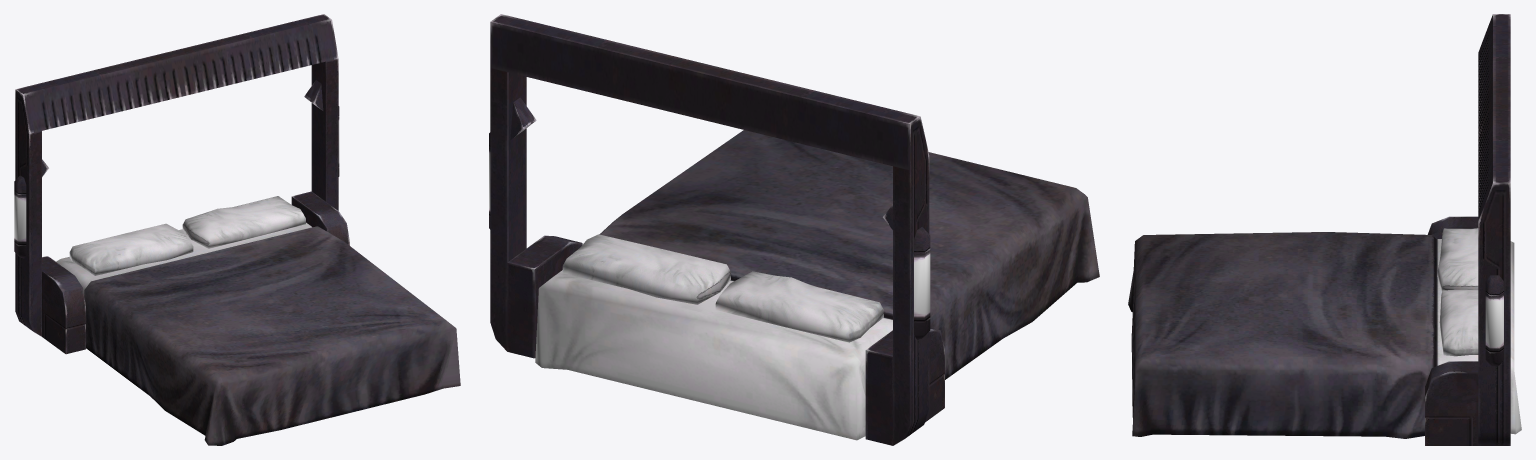
File: frn_all_bed_lg_s1_l0.fbx
3 views of the same model, side by side, from view 1: azimuth 30°, elevation 25°; view 2: azimuth 150°, elevation 25°; view 3: azimuth 270°, elevation 25° (orthographic). The views are drawn at different scales.
Parts seen in each view (by area): view 1: mesh_node; view 2: mesh_node; view 3: mesh_node.
Part boxes in pixels (x1=…): mesh_node: x1=14, y1=14, x2=460, y2=445; mesh_node: x1=489, y1=14, x2=1099, y2=445; mesh_node: x1=1128, y1=14, x2=1521, y2=445.
Bounding box in the file's own units: 2.15 × 1.54 × 2.04.
